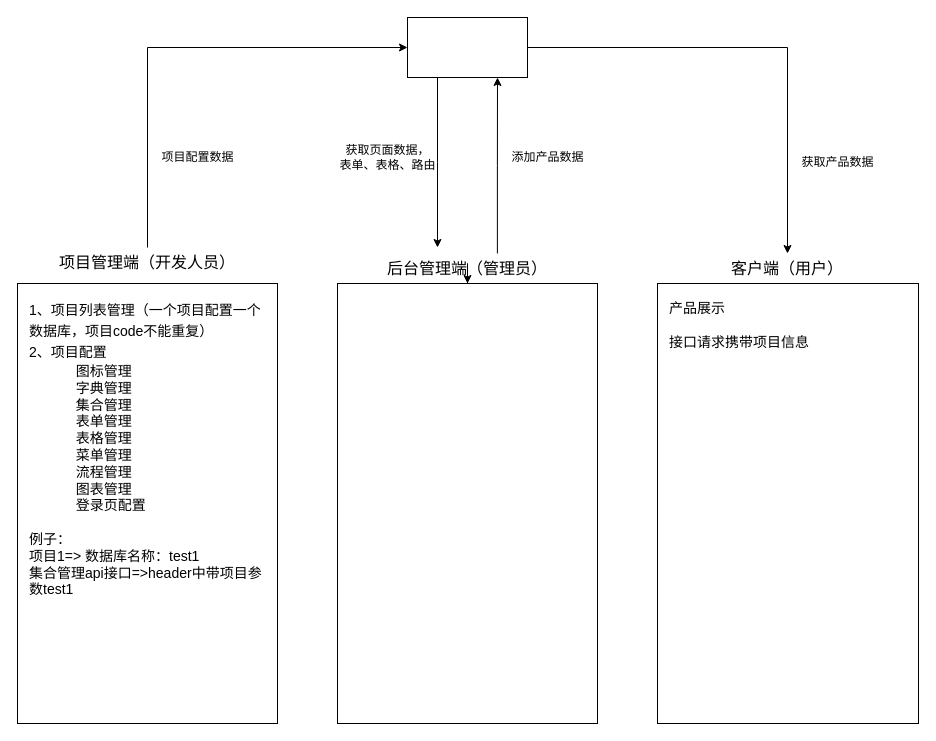
Image size: 936x741. Some labels were removed from this diagram. The centre of each missing label's shape, as x and y in pixels:
"数据库" goes at [467,47].
"数据管理 人员管理 权限管理 角色管理 自定义表单组件 自定义页面 项目切换 接口请求携带项目信息" goes at [467,503].
